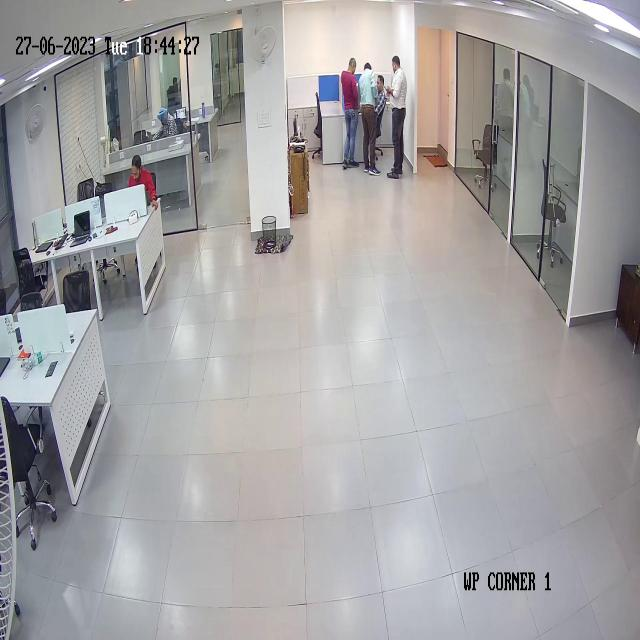chair: (3, 399, 58, 548), (538, 158, 566, 270), (13, 246, 52, 301), (472, 123, 502, 190), (61, 269, 91, 313), (313, 91, 323, 164)
keyboard: (54, 230, 68, 250)
laptop: (66, 210, 92, 249), (0, 342, 11, 382), (36, 240, 54, 253)
person: (358, 59, 380, 176), (386, 56, 406, 177), (341, 57, 358, 170), (126, 155, 158, 213), (151, 104, 181, 140), (374, 72, 386, 138)
phone: (90, 230, 100, 242)
